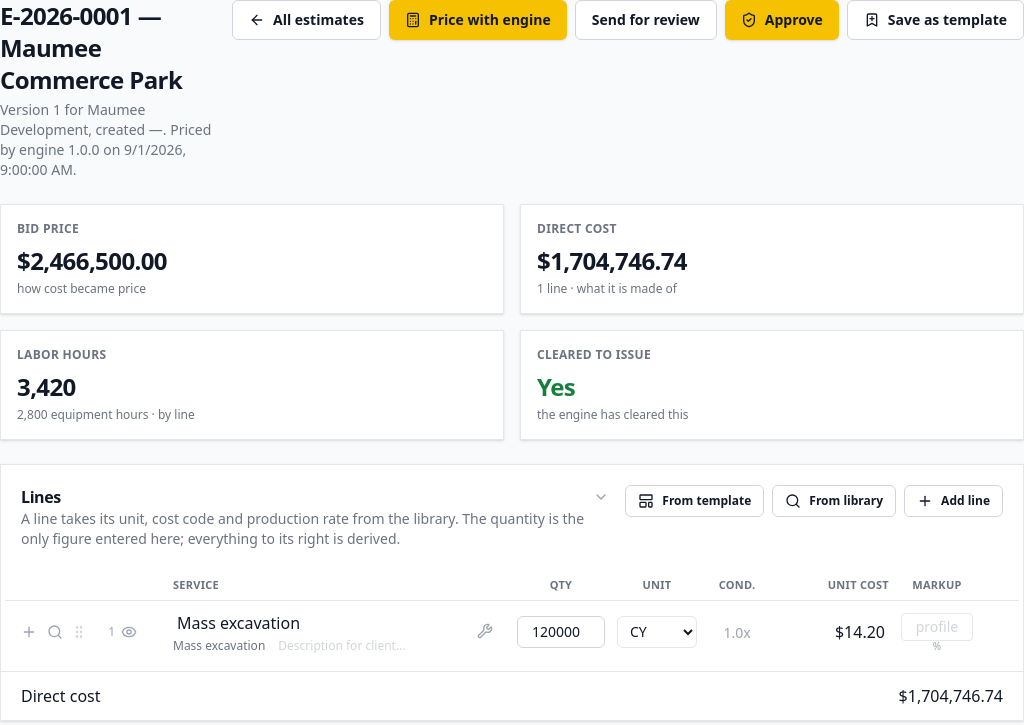
Test: pricing an estimate from the workspace › says an estimate is still blocked even when it prices
Click the button "Price with engine" at [478, 20], box [389,0,567,40]
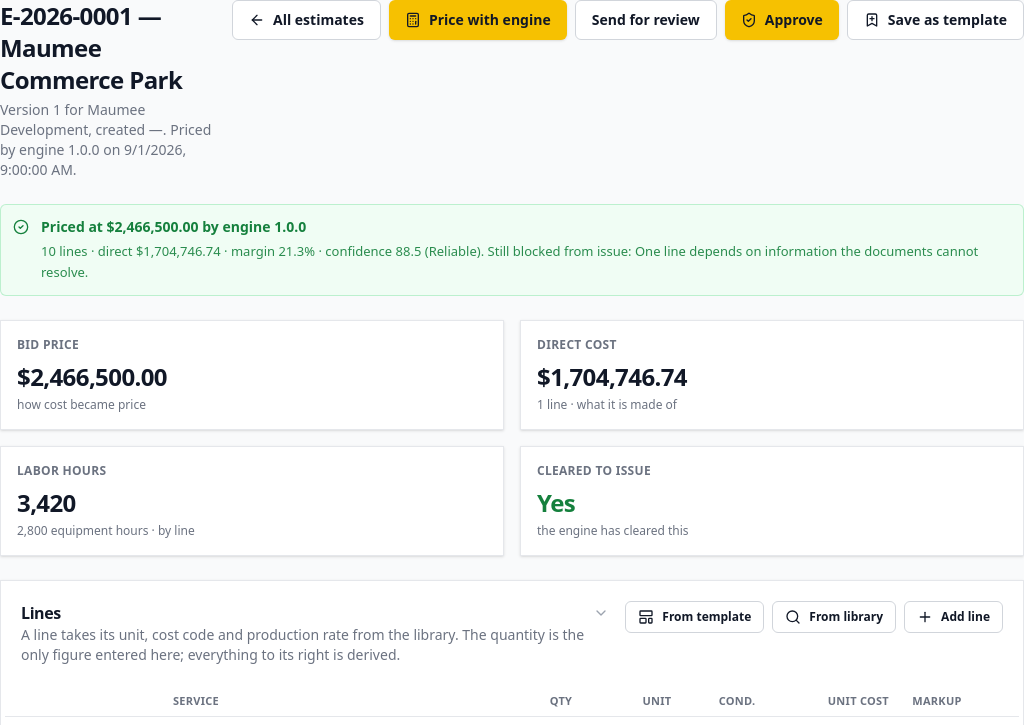
Result: the text "Still blocked from issue" is shown at [41,242,978,281]
